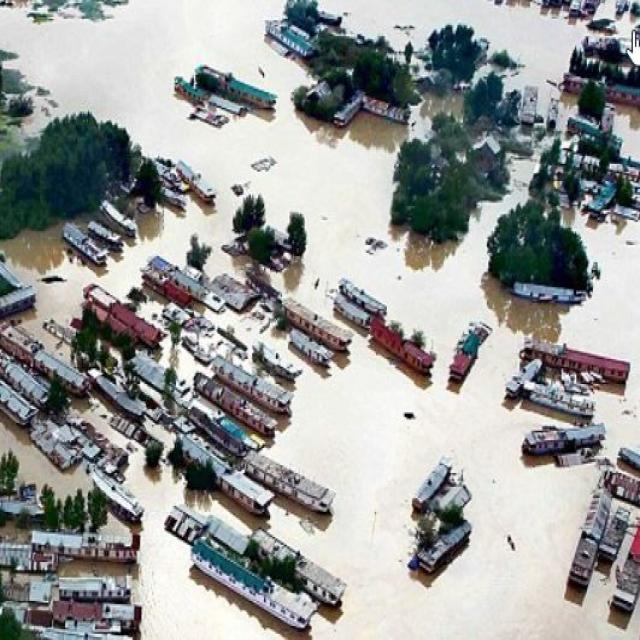flooded_areas: (0, 150, 474, 638), (166, 7, 639, 230), (474, 237, 638, 638)
